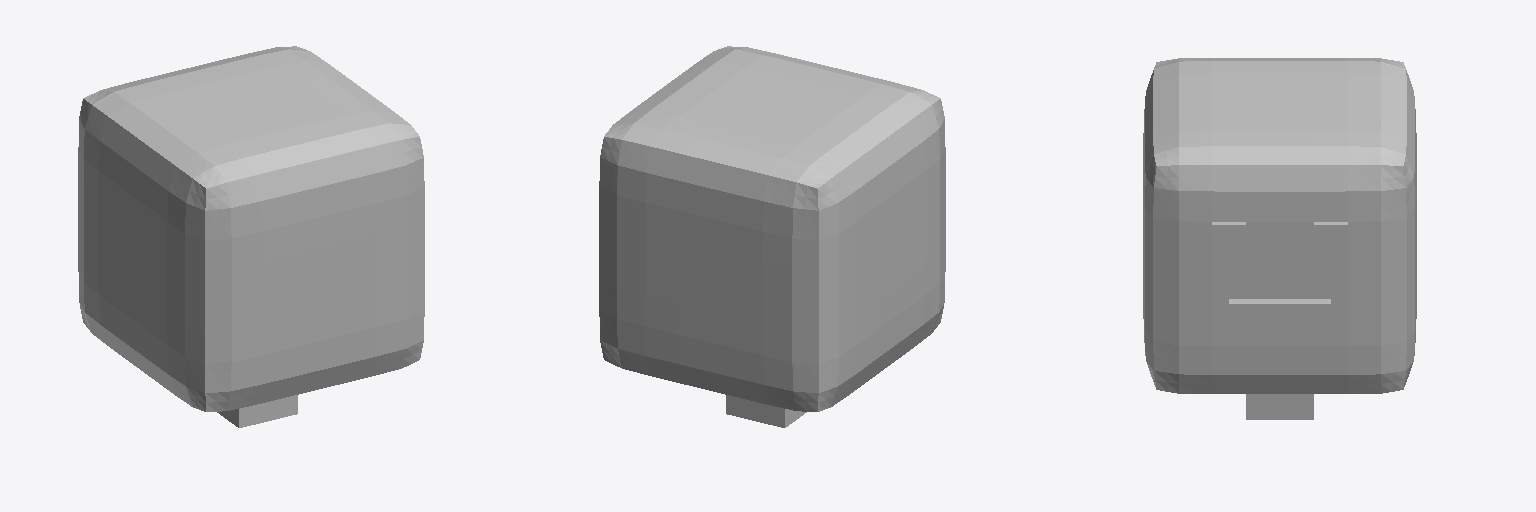
Rendered from Head.obj.
The picture shows the model from 3 angles: view 1: azimuth 30°, elevation 25°; view 2: azimuth 150°, elevation 25°; view 3: azimuth 270°, elevation 25°; orthographic projection.
Parts seen in each view (by area): view 1: Cube; view 2: Cube; view 3: Cube.
Boxes of the visible parts, <box> form: Cube: <box>78,46,424,427</box>; Cube: <box>599,46,945,427</box>; Cube: <box>1143,58,1416,419</box>.
Bounding box in the file's own units: 0.415 × 0.4897 × 0.4.